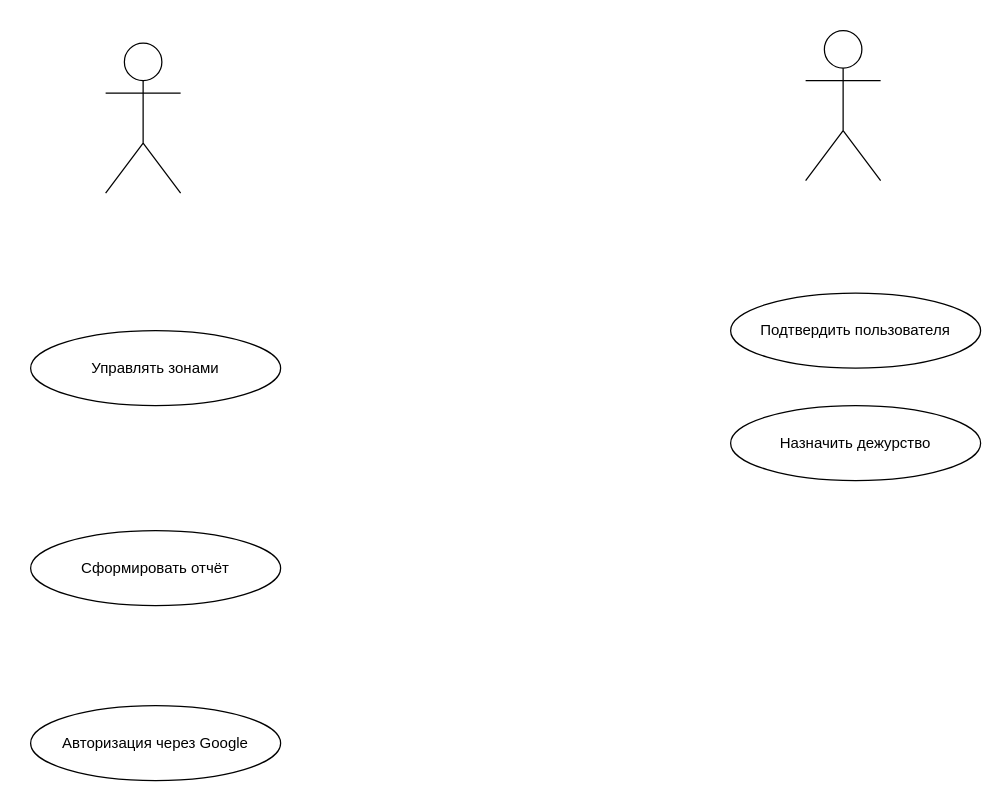
Some shapes in this 1003 by 803 pixel diagram are drawn without their labels. Each missing label, with the centre of its shape:
Менеджер: pixel 842 105
Сотрудник: pixel 142 117
